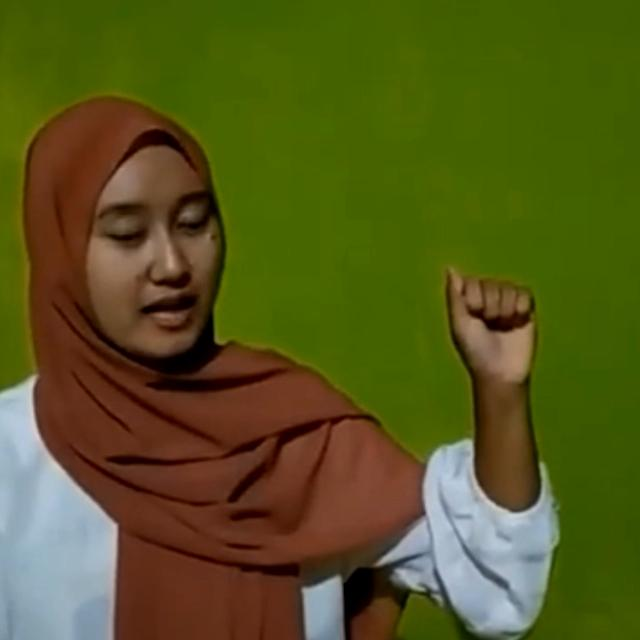A: (439, 260, 539, 392)
